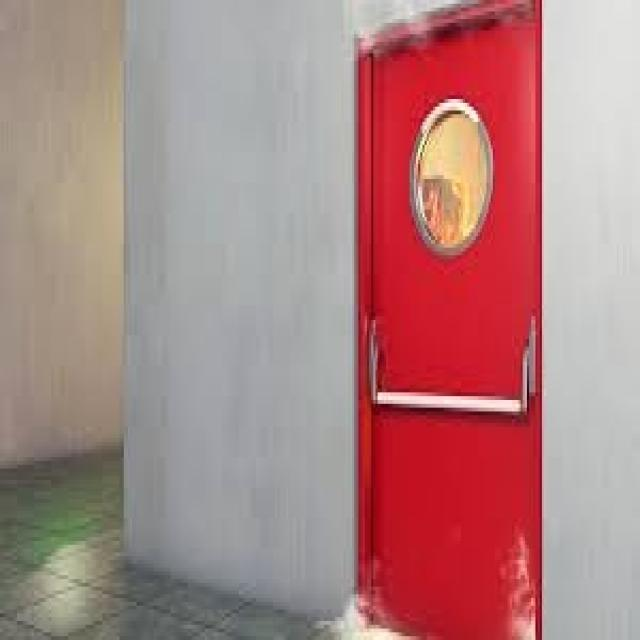door: (356, 2, 544, 638)
